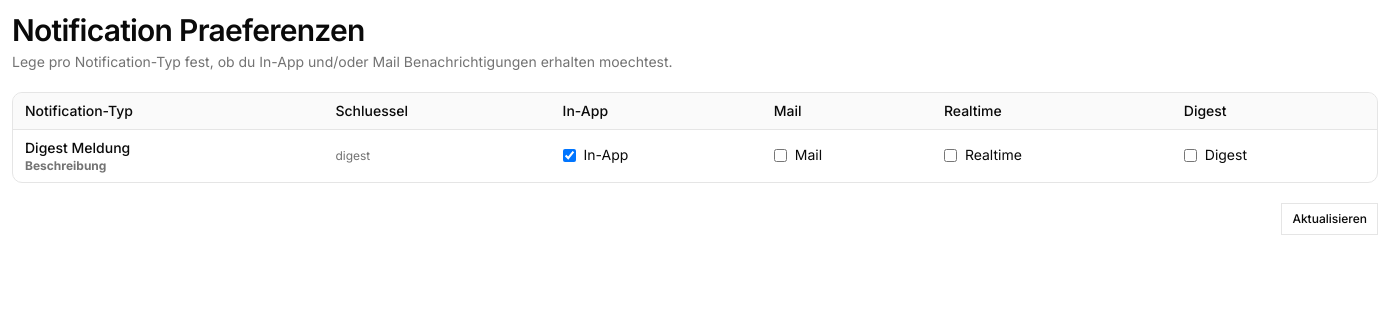
Test case: Notification pages › renders accessible preferences table and saves toggle
Expected: the text "Digest Meldung" is shown, [25,139,130,156]
What coordinates should you click on to do the following:
click the checkbox named "Digest Meldung: Mail aktivieren"
I would click on:
 (780, 155)
Its box is [774,149,787,162].
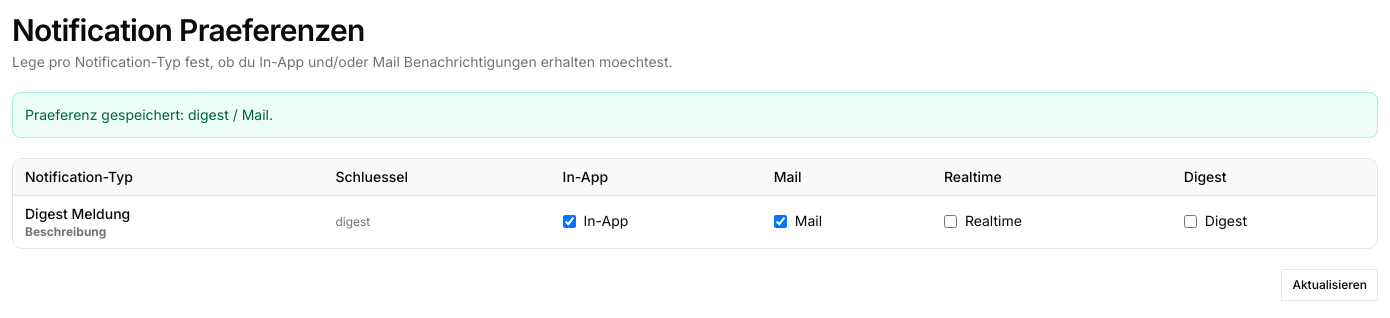
Expected: the text "Praeferenz gespeichert: digest / Mail." is shown, [12,92,1378,138]
